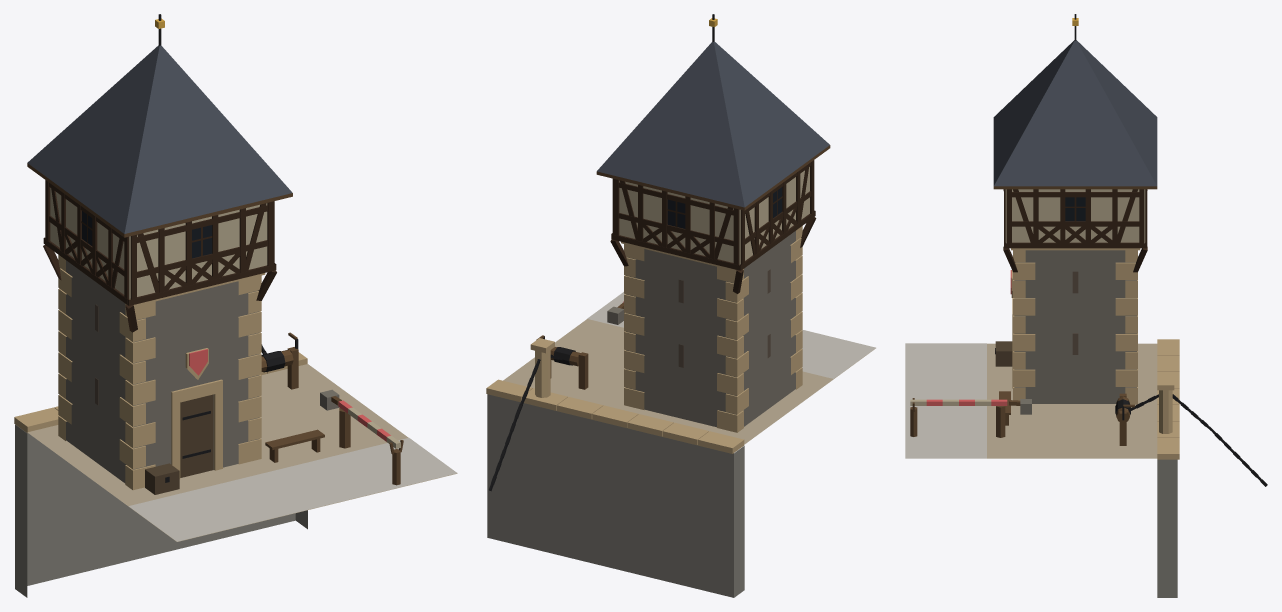
File: wasser_zoll.glb
The picture shows the model from 3 angles, left to right: view 1: azimuth 30°, elevation 25°; view 2: azimuth 150°, elevation 25°; view 3: azimuth 270°, elevation 25°; orthographic projection. The views are drawn at different scales.
Visible parts, largest first — view 1: Haus; view 2: Haus; view 3: Haus.
Boxes of the visible parts, x1=… form: Haus: x1=14, y1=14, x2=457, y2=597; Haus: x1=486, y1=14, x2=875, y2=597; Haus: x1=905, y1=14, x2=1267, y2=597.
Bounding box in the file's own units: 8 × 16.3 × 10.64.
